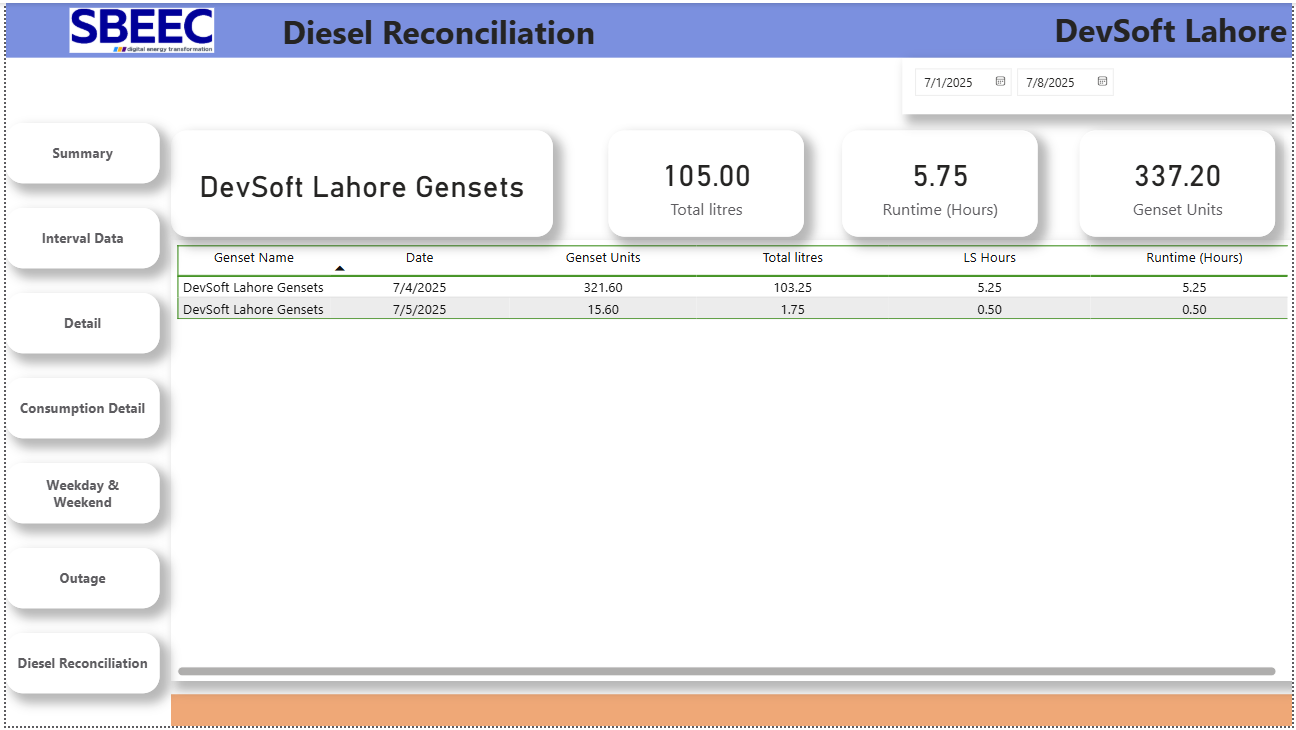

The page's visual inventory and layout, read from the dashboard file:
{"tool":"powerbi","page":{"name":"DevSoft Lahore : Diesel Reconciliation","canvas":[1280,720],"ordinal":6},"visuals":[{"type":"textbox","box":[0,0,1280,54.3],"z":0},{"type":"image","box":[0,0,269.9,54.3],"z":1000},{"type":"textbox","box":[269.9,1.4,346.4,52.9],"z":2000},{"type":"slicer","fields":{"Values":["Calendar.Date"]},"box":[891.8,54.3,388.2,55.7],"z":3000},{"type":"textbox","box":[164.2,687.3,1115.8,33.4],"z":4000},{"type":"tableEx","fields":{"Values":["Dev_Soft_Diesel_MCM_ampere_recon.Genset_Name","Jefff_Heights_Diesel_MCM_ampere_recon.Date.Variation.Date Hierarchy.Year","Key Measure.Gen_units","Key Measure.Total litres","Key Measure.LS Hours1","Key Measure.LS Hours"]},"box":[164.2,236.5,1115.8,438.3],"z":5000},{"type":"card","fields":{"Values":["Min(Dev_Soft_Diesel_MCM_ampere_recon.Genset_Name)"]},"box":[164.2,126.6,379.8,105.7],"z":6000},{"type":"card","fields":{"Values":["Key Measure.Total litres"]},"box":[599.7,126.6,194.8,105.7],"z":7000},{"type":"card","fields":{"Values":["Key Measure.Runtime (Hours)"]},"box":[832,126.6,194.8,105.7],"z":8000},{"type":"card","fields":{"Values":["Key Measure.Gen_units"]},"box":[1068.5,126.6,194.8,105.7],"z":9000},{"type":"actionButton","box":[0,119.7,153,59.8],"z":10000},{"type":"actionButton","box":[0,204.3,153,59.8],"z":11000},{"type":"actionButton","box":[0,288.9,153,59.8],"z":12000},{"type":"actionButton","box":[0,373.6,153,59.8],"z":13000},{"type":"actionButton","box":[0,458.2,153,59.8],"z":14000},{"type":"actionButton","box":[0,542.8,153,59.8],"z":15000},{"type":"actionButton","box":[0,627.5,153,59.8],"z":16000}]}

Visuals, with their boxes in screenshot pixels (x1, y1, x2, y2), scaled from the page's 1280x720 canvas onto the 1296x730 screenshot:
textbox: x1=0 y1=0 x2=1295 y2=55
image: x1=0 y1=0 x2=273 y2=55
textbox: x1=273 y1=1 x2=624 y2=55
slicer - Calendar.Date: x1=903 y1=55 x2=1295 y2=112
textbox: x1=166 y1=697 x2=1295 y2=729
tableEx - Dev_Soft_Diesel_MCM_ampere_recon.Genset_Name x Jefff_Heights_Diesel_MCM_ampere_recon.Date.Variation.Date Hierarchy.Year: x1=166 y1=240 x2=1295 y2=684
card - Min(Dev_Soft_Diesel_MCM_ampere_recon.Genset_Name): x1=166 y1=128 x2=551 y2=236
card - Key Measure.Total litres: x1=607 y1=128 x2=804 y2=236
card - Key Measure.Runtime (Hours): x1=842 y1=128 x2=1040 y2=236
card - Key Measure.Gen_units: x1=1082 y1=128 x2=1279 y2=236
actionButton: x1=0 y1=121 x2=155 y2=182
actionButton: x1=0 y1=207 x2=155 y2=268
actionButton: x1=0 y1=293 x2=155 y2=354
actionButton: x1=0 y1=379 x2=155 y2=439
actionButton: x1=0 y1=465 x2=155 y2=525
actionButton: x1=0 y1=550 x2=155 y2=611
actionButton: x1=0 y1=636 x2=155 y2=697
